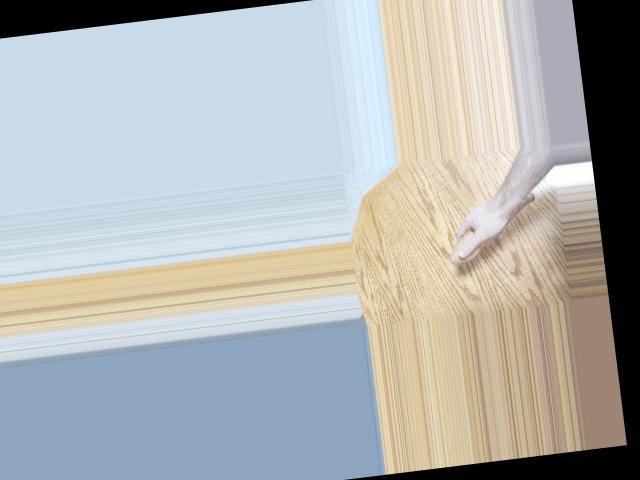sweet_potato: (441, 193, 544, 267)
